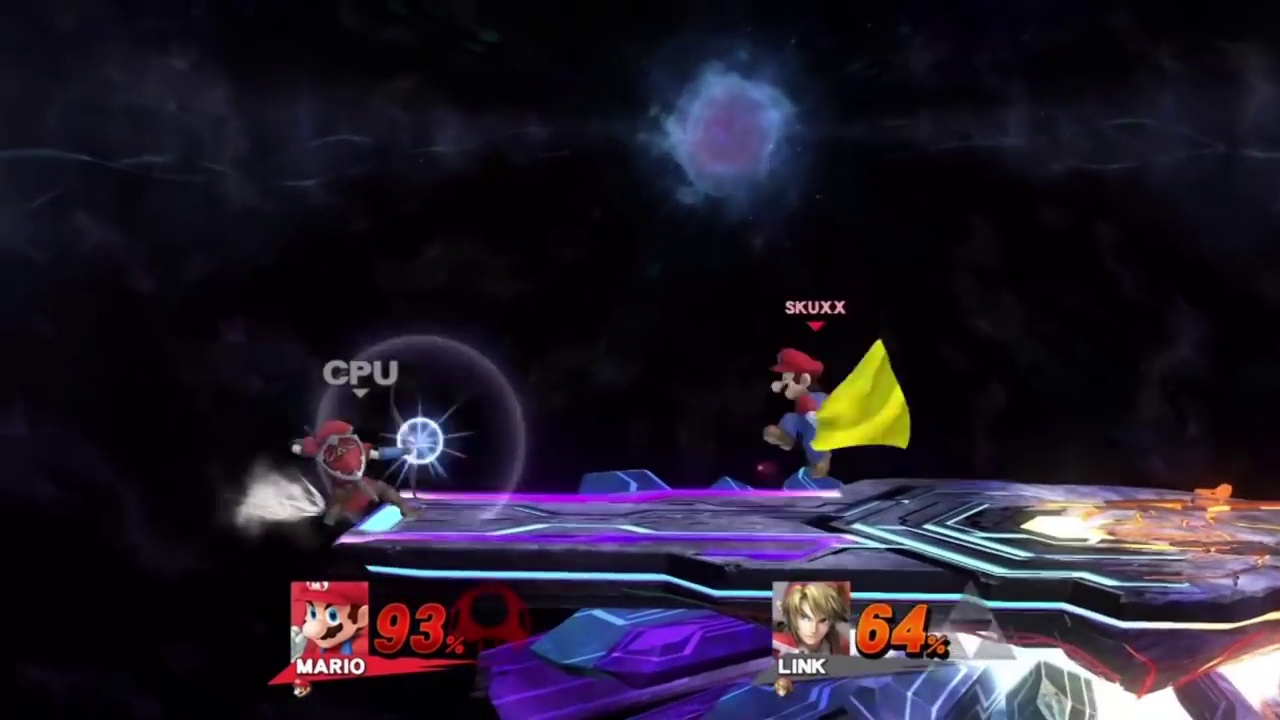Mario: (765, 337, 911, 480)
